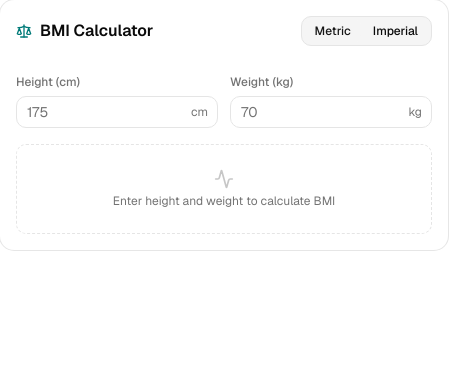
Test case: BmiCalculator component › computes BMI when valid values are entered
This screenshot has width=466, height=372.
Type "180" into the number field labelled "Height (cm)" at (117, 112), box x1=16 y1=96 x2=218 y2=128
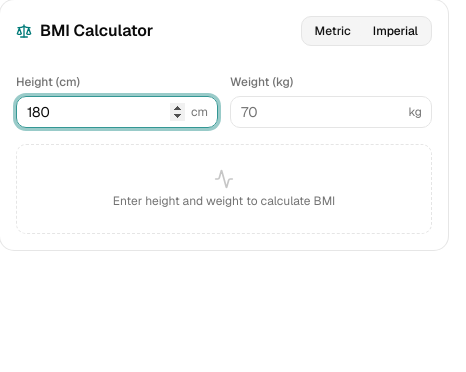
Type "75" into the number field labelled "Weight (kg)" at (331, 112), box x1=230 y1=96 x2=432 y2=128
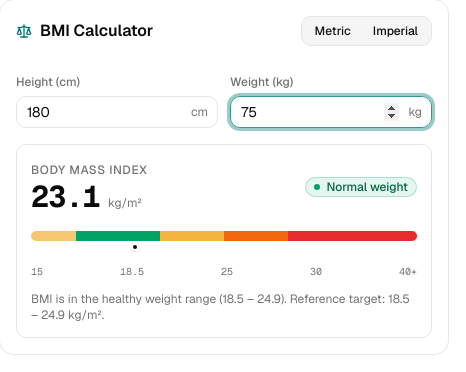
Check: the text "23.1" is shown, box x1=31 y1=179 x2=100 y2=215
Check: the text "Normal weight" is shown, box x1=305 y1=177 x2=417 y2=197
